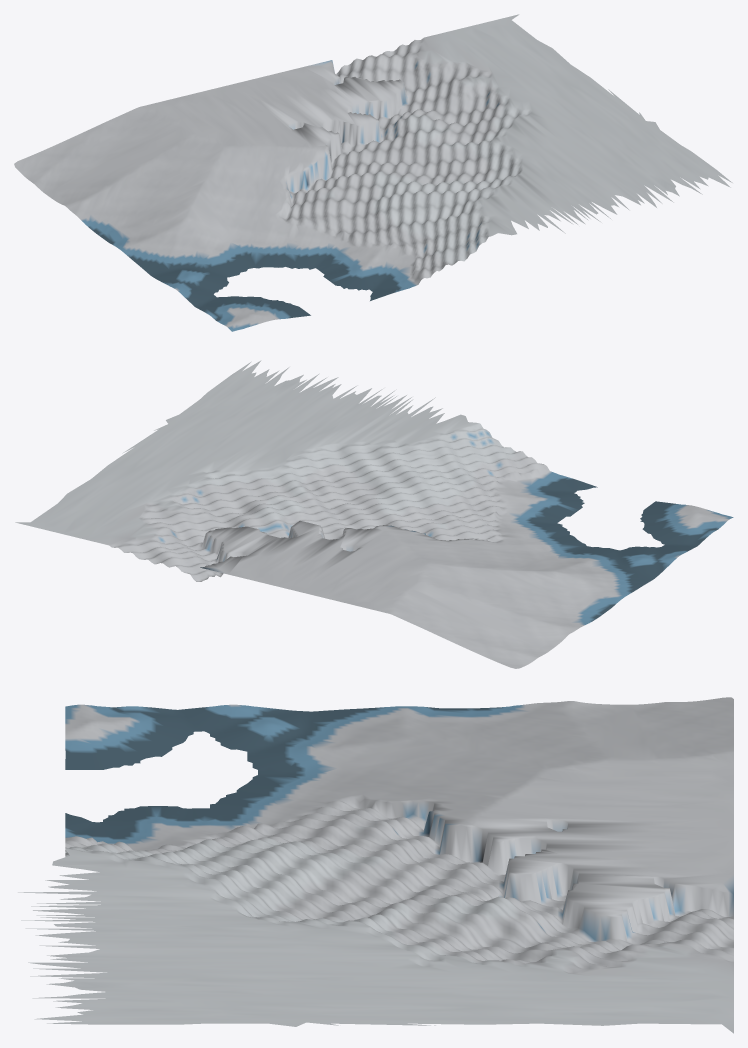
The model's file is frost_tile_x0z0.glb.
3 views of the same model, one above another, from view 1: azimuth 30°, elevation 25°; view 2: azimuth 150°, elevation 25°; view 3: azimuth 270°, elevation 25° (orthographic). The views are drawn at different scales.
Visible parts, largest first — view 1: geometry_0; view 2: geometry_0; view 3: geometry_0.
Boxes of the visible parts, x1=… form: geometry_0: x1=14, y1=14, x2=732, y2=331; geometry_0: x1=15, y1=360, x2=733, y2=668; geometry_0: x1=18, y1=697, x2=733, y2=1033.
Bounding box in the file's own units: 999 × 67.13 × 808.
